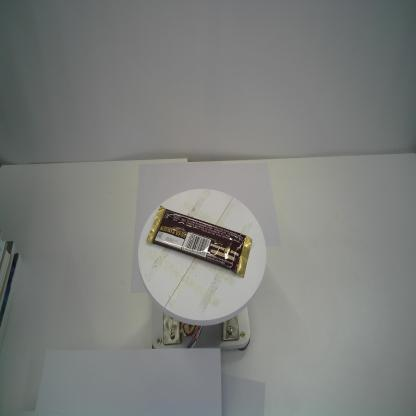Chocolate: (142, 202, 253, 282)
